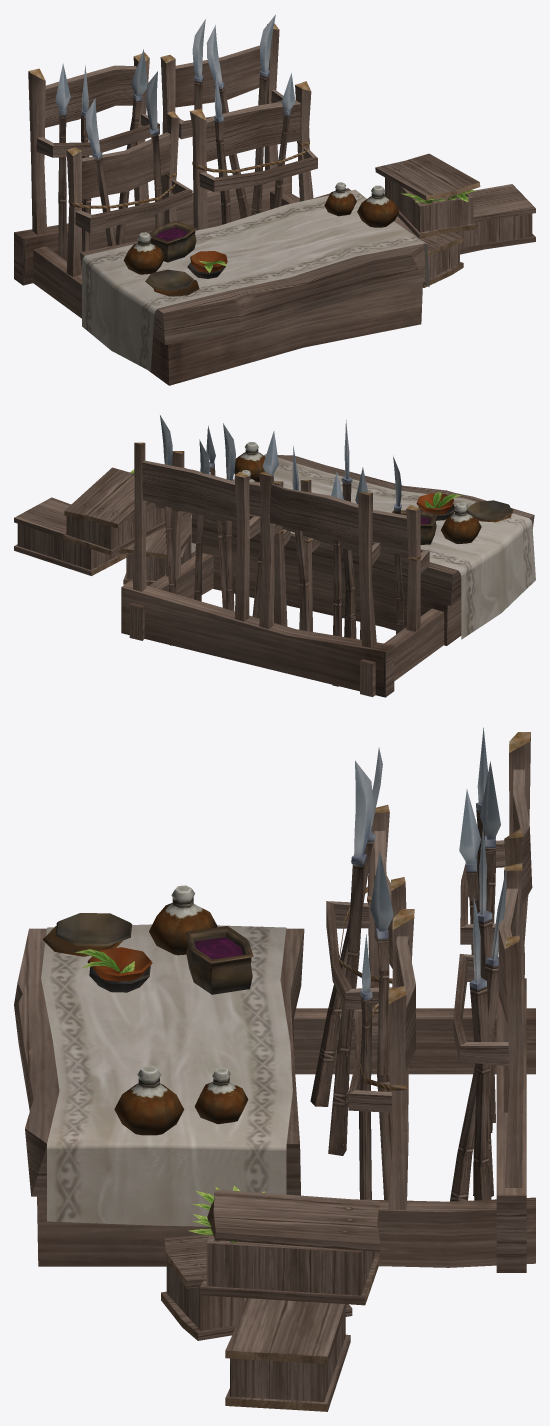
The model's file is handan_field_a_s01d.fbx.
3 views of the same model, one above another, from view 1: azimuth 30°, elevation 25°; view 2: azimuth 150°, elevation 25°; view 3: azimuth 270°, elevation 25° (orthographic). The views are drawn at different scales.
Parts seen in each view (by area): view 1: handan_field_a_s01d; view 2: handan_field_a_s01d; view 3: handan_field_a_s01d.
Boxes of the visible parts, x1,y1,x2,y2 form: handan_field_a_s01d: (14,14,535,385); handan_field_a_s01d: (14,415,535,697); handan_field_a_s01d: (14,727,535,1411).
Bounding box in the file's own units: 605 × 312 × 368.
